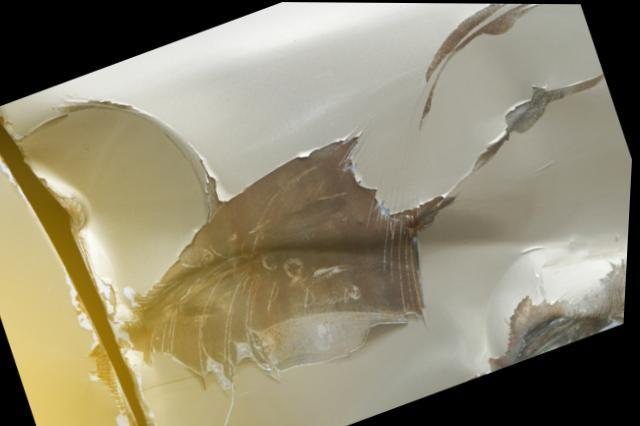dent: (409, 75, 634, 374), (18, 103, 214, 337)
scratch: (118, 125, 441, 394), (405, 3, 551, 135)
